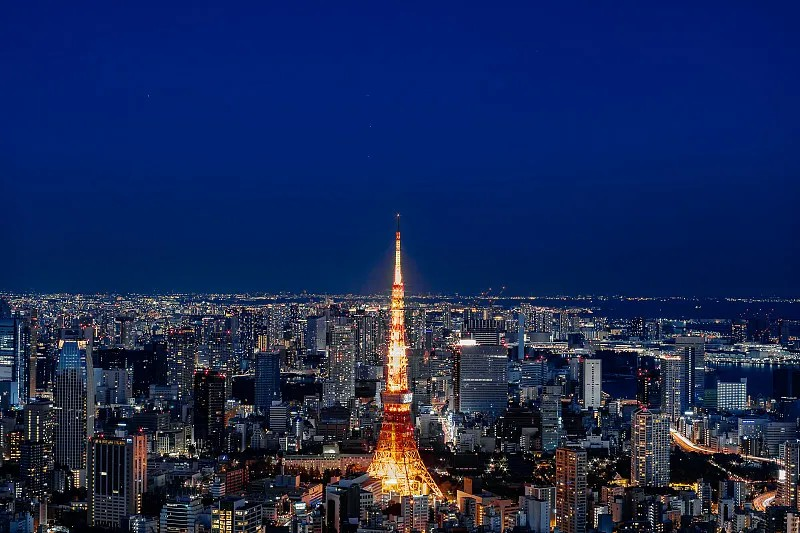Tokyo: (363, 210, 446, 500)
